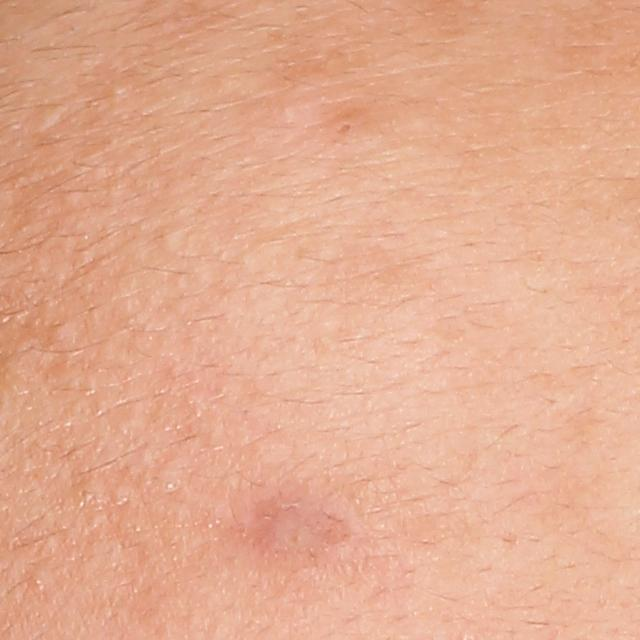comedo: (334, 111, 361, 138)
